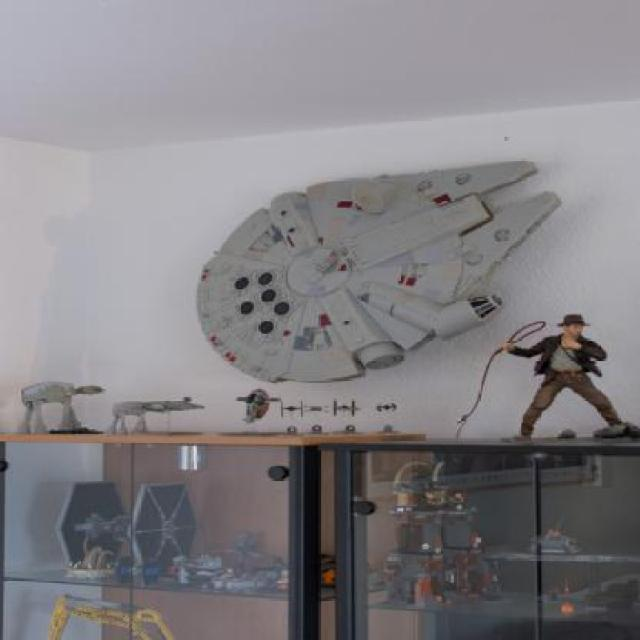Person: (497, 309, 628, 440)
